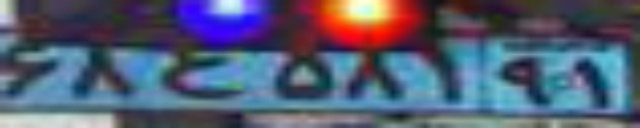1: (423, 48, 464, 103), (571, 57, 612, 107)
5: (272, 50, 333, 99)
6: (0, 43, 57, 98)
8: (70, 44, 134, 97), (348, 51, 402, 102)
9: (496, 57, 548, 106)
ain: (156, 48, 244, 98)
